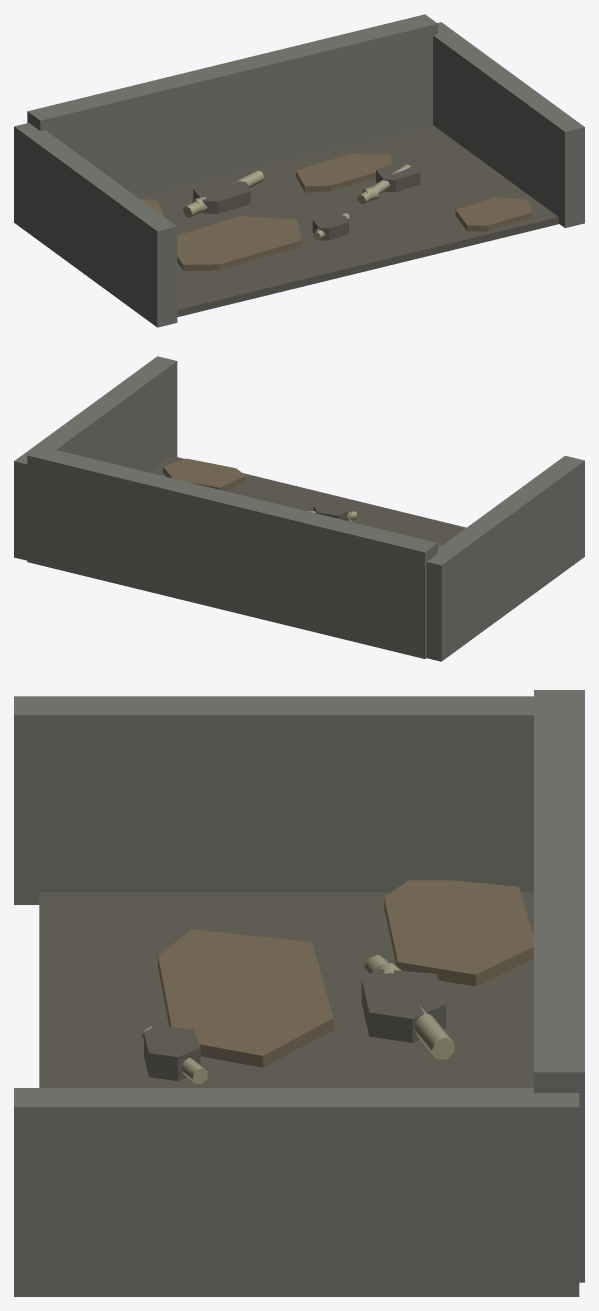
The model's file is DeeperCavity_Exposed.fbx.
The picture shows the model from 3 angles, top to bottom: view 1: azimuth 30°, elevation 25°; view 2: azimuth 150°, elevation 25°; view 3: azimuth 270°, elevation 25°; orthographic projection. The views are drawn at different scales.
Visible parts, largest first — view 1: DeeperCavity_Exposed; view 2: DeeperCavity_Exposed; view 3: DeeperCavity_Exposed.
Part boxes in pixels (<box>): DeeperCavity_Exposed: <box>14,14,584,327</box>; DeeperCavity_Exposed: <box>14,356,584,661</box>; DeeperCavity_Exposed: <box>14,690,584,1296</box>.
Size of the model in its own units: 1.72 by 0.413 by 1.01.
